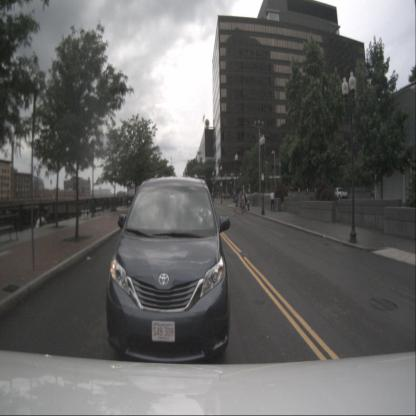human-pedestrian-adult: (232, 189, 238, 216), (242, 192, 248, 213), (270, 189, 275, 212), (242, 191, 246, 214), (370, 191, 374, 212), (222, 190, 224, 199), (218, 191, 219, 198)
vehicle-car: (106, 175, 230, 365), (370, 188, 386, 201)
vehicle-truck: (332, 188, 348, 200)
